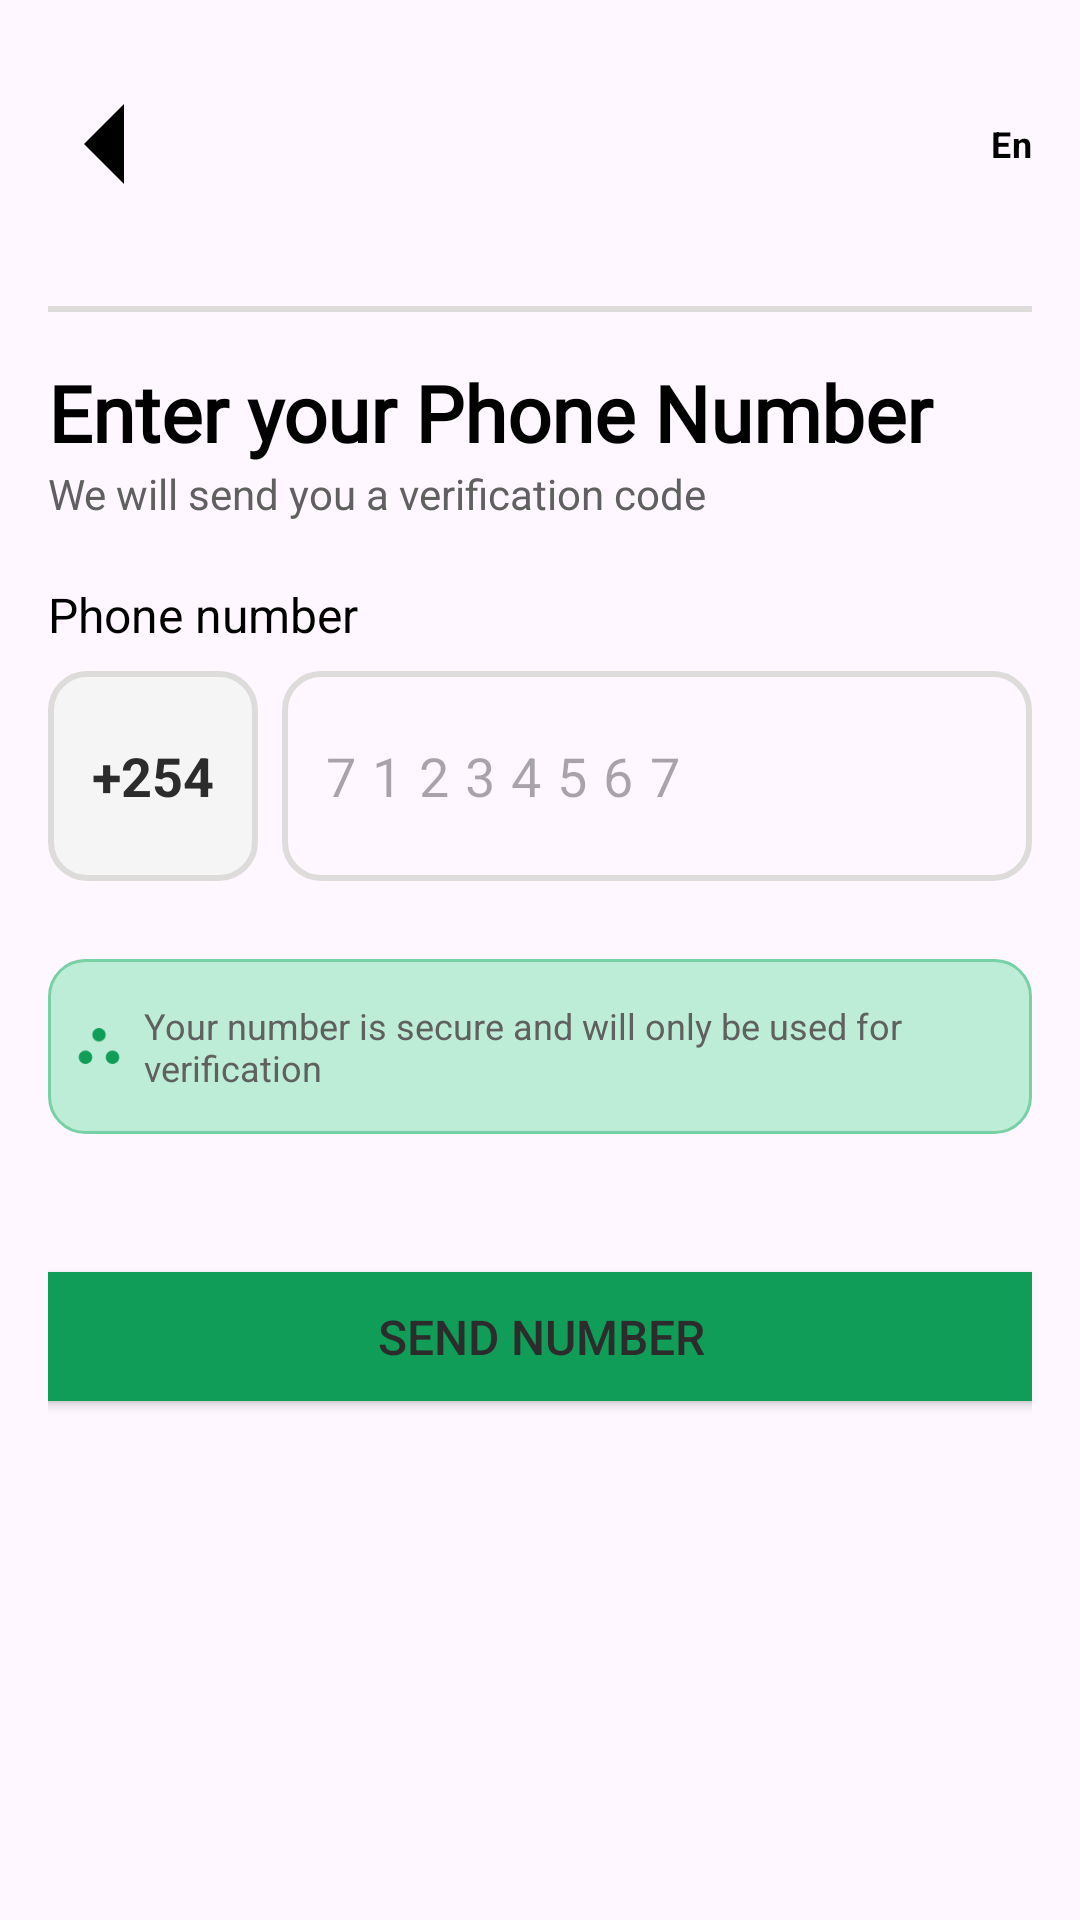

Icon click points for this 1080 x 1920 phone screenshot, format point (x, y):
arrow left: point (104, 144)
